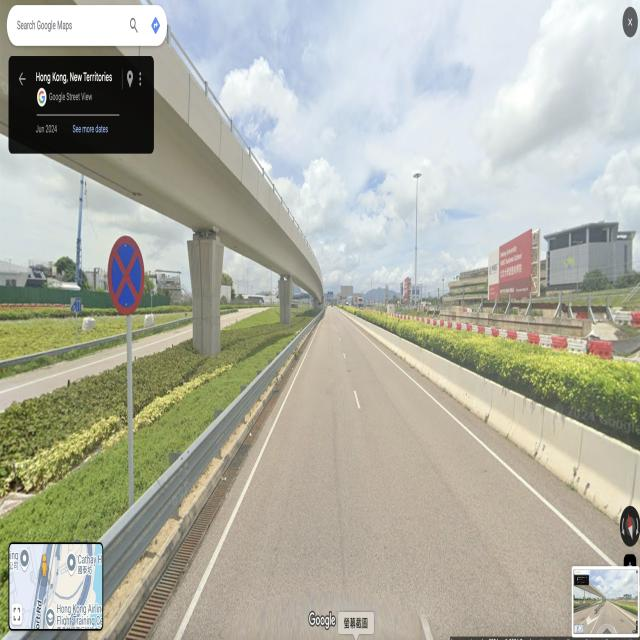Order-Sign: (106, 236, 146, 317)
